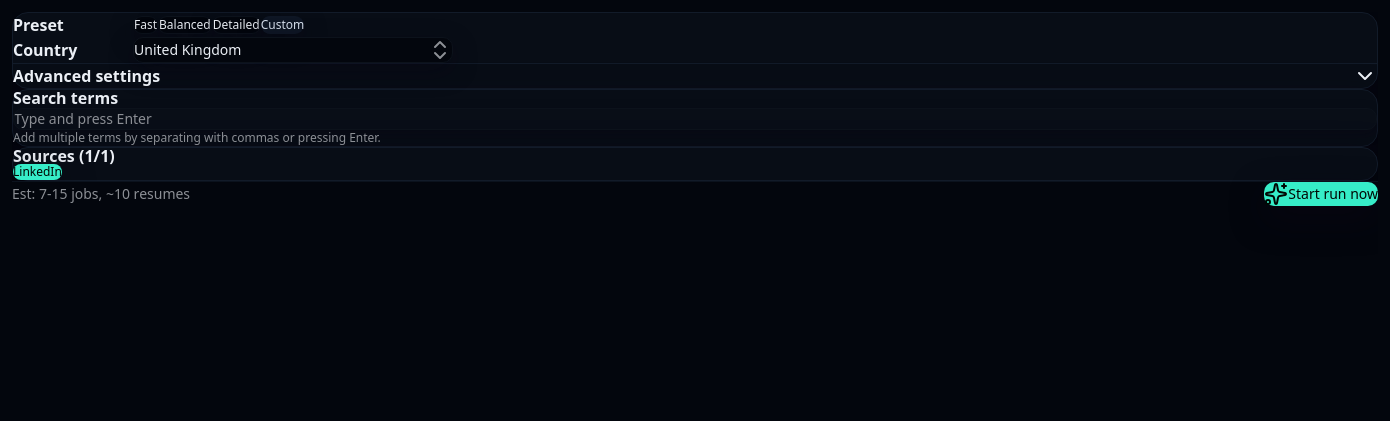
AutomaticRunTab › shows JobSpy guidance when non-remote workplace types are selected
Click the button "Advanced settings".
click(87, 76)  # box [13,64,1377,88]
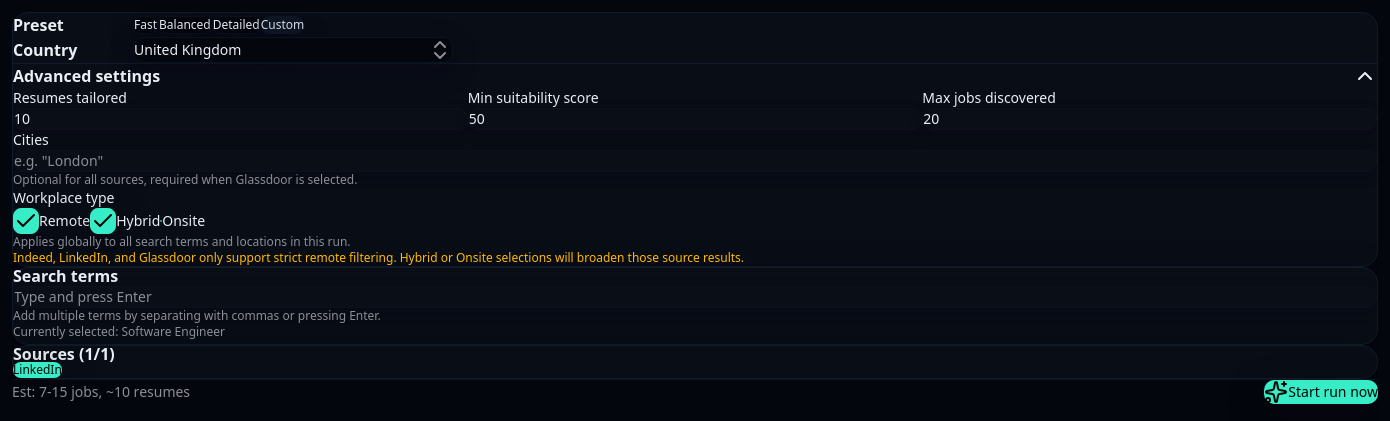
Expected: the text "Indeed, LinkedIn, and Glassdoor only support strict remote filtering." is shown, [13,249,744,266]
